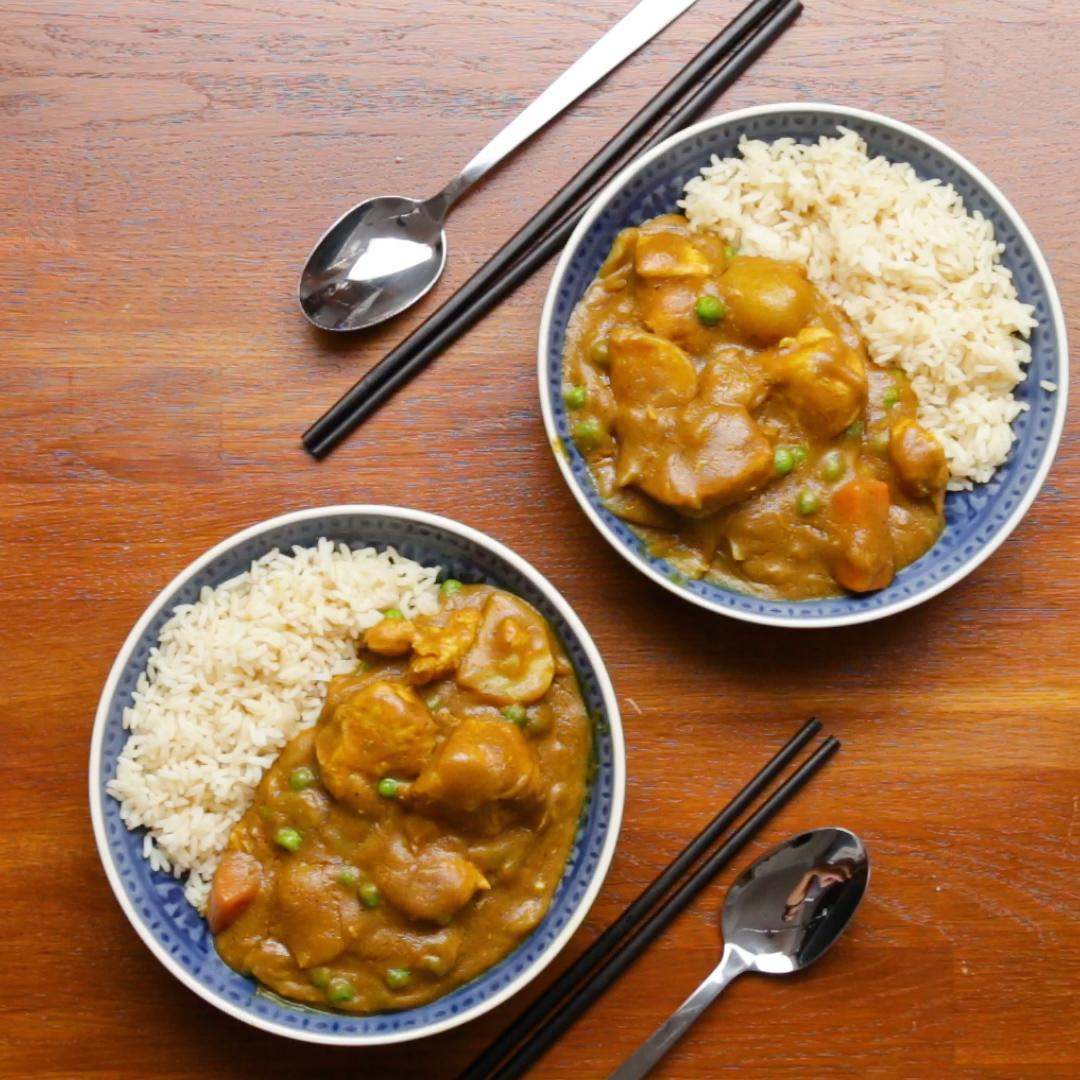curry: (278, 622, 568, 975), (609, 256, 885, 594), (316, 700, 563, 925), (217, 809, 474, 1005), (652, 285, 842, 544), (372, 593, 565, 827), (583, 237, 768, 451), (733, 375, 912, 589)
